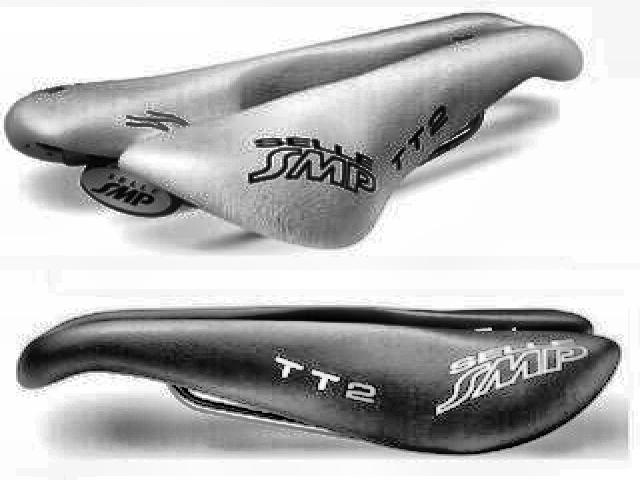saddle: (8, 7, 584, 251), (9, 297, 626, 456)
